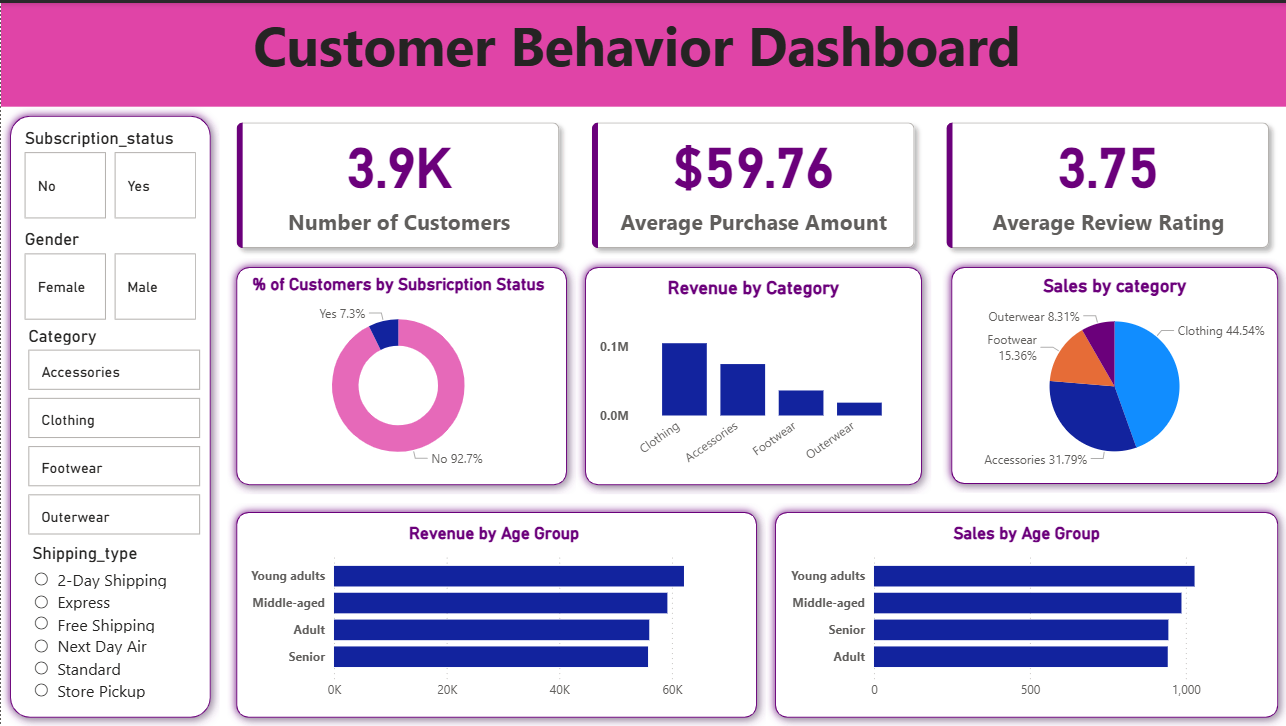

This screenshot's page, from the dashboard's own definition file:
{"tool":"powerbi","page":{"name":"Page 1","canvas":[1280,720],"ordinal":0},"visuals":[{"type":"cardVisual","fields":{"Data":["public customer.Number of Customers","public customer.Average Purchase Amount","public customer.Average Review Rating"]},"box":[217.6,102.5,1062.3,159.2],"z":0},{"type":"textbox","box":[0,0,1280.3,102.9],"z":1000},{"type":"shape","box":[225.2,253.8,347.1,235.1],"z":2000},{"type":"donutChart","title":"% of Customers by Subsricption Status","fields":{"Category":["public customer.subscription_status"],"Y":["Sum(public customer.customer_id)"]},"box":[238.8,269.9,313.5,202.8],"z":3000},{"type":"shape","box":[572.2,253.8,353.3,235.1],"z":4000},{"type":"shape","box":[936.7,253.8,343.3,233.9],"z":5000},{"type":"clusteredColumnChart","title":"Revenue by Category","fields":{"Category":["public customer.category"],"Y":["Sum(public customer.purchase_amount)"]},"box":[590.9,272.4,316,200.3],"z":6000},{"type":"pieChart","title":"Sales by category","fields":{"Category":["public customer.category"],"Y":["CountNonNull(public customer.customer_id)"]},"box":[950.4,271.2,316,200.3],"z":7000},{"type":"shape","box":[0,103.2,217.7,617],"z":7001},{"type":"advancedSlicerVisual","title":"Subscription_status","fields":{"Values":["public customer.subscription_status"]},"box":[18.7,124.4,181.6,95.8],"z":7002},{"type":"advancedSlicerVisual","title":"Gender","fields":{"Values":["public customer.gender"]},"box":[18.7,225.2,181.6,95.8],"z":7003},{"type":"advancedSlicerVisual","title":"Category","fields":{"Values":["public customer.category"]},"box":[22.4,320.9,181.6,216.4],"z":7004},{"type":"listSlicer","title":"Shipping_type","fields":{"Values":["public customer.shipping_type"]},"box":[26.1,537.4,174.2,164.2],"z":7005},{"type":"shape","box":[225.2,497.6,536.1,222.7],"z":7007},{"type":"clusteredBarChart","title":"Revenue by Age Group","fields":{"Category":["public customer.age_group"],"Y":["Sum(public customer.purchase_amount)"]},"box":[242.6,517.5,496.3,184.1],"z":7008},{"type":"shape","box":[761.3,497.6,518.7,222.7],"z":7009},{"type":"clusteredBarChart","title":"Sales by Age Group","fields":{"Category":["public customer.age_group"],"Y":["CountNonNull(public customer.purchase_amount)"]},"box":[780,517.5,481.4,184.1],"z":7010}]}

Visuals, with their boxes in screenshot pixels (x1, y1, x2, y2), scaled from the page's 1280x720 canvas onto the 1286x726 screenshot:
cardVisual - public customer.Number of Customers x public customer.Average Purchase Amount: bbox(219, 103, 1285, 264)
textbox: bbox(0, 0, 1285, 104)
shape: bbox(226, 256, 575, 493)
"% of Customers by Subsricption Status" donutChart: bbox(240, 272, 555, 477)
shape: bbox(575, 256, 930, 493)
shape: bbox(941, 256, 1285, 492)
"Revenue by Category" clusteredColumnChart: bbox(594, 275, 911, 477)
"Sales by category" pieChart: bbox(955, 273, 1272, 475)
shape: bbox(0, 104, 219, 725)
"Subscription_status" advancedSlicerVisual: bbox(19, 125, 201, 222)
"Gender" advancedSlicerVisual: bbox(19, 227, 201, 324)
"Category" advancedSlicerVisual: bbox(23, 324, 205, 542)
"Shipping_type" listSlicer: bbox(26, 542, 201, 707)
shape: bbox(226, 502, 765, 725)
"Revenue by Age Group" clusteredBarChart: bbox(244, 522, 742, 707)
shape: bbox(765, 502, 1285, 725)
"Sales by Age Group" clusteredBarChart: bbox(784, 522, 1267, 707)
